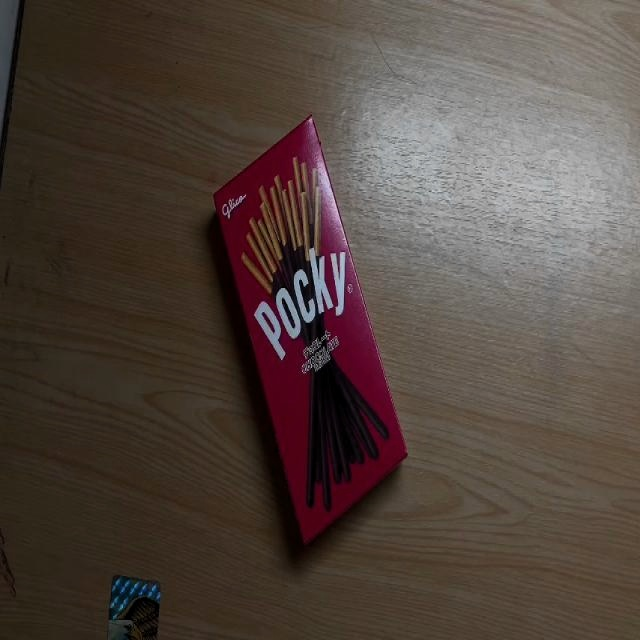Pocky: (212, 111, 410, 548)
